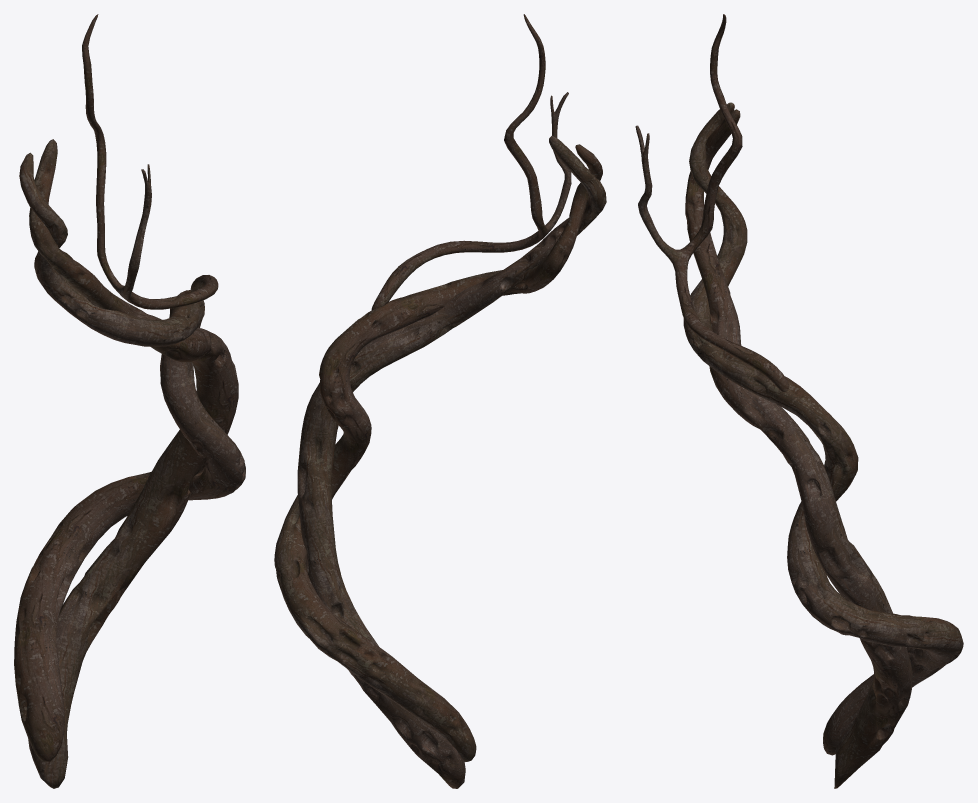
The model's file is SM_BigTree006_03_02.fbx.
3 views of the same model, side by side, from view 1: azimuth 30°, elevation 25°; view 2: azimuth 150°, elevation 25°; view 3: azimuth 270°, elevation 25° (orthographic). The views are drawn at different scales.
Parts seen in each view (by area): view 1: SM_BigTree006_03_02; view 2: SM_BigTree006_03_02; view 3: SM_BigTree006_03_02.
Boxes of the visible parts, x1,y1,x2,y2 form: SM_BigTree006_03_02: (14,14,245,788); SM_BigTree006_03_02: (274,14,606,788); SM_BigTree006_03_02: (635,14,963,788).
Bounding box in the file's own units: 9179 × 25932 × 10059.
